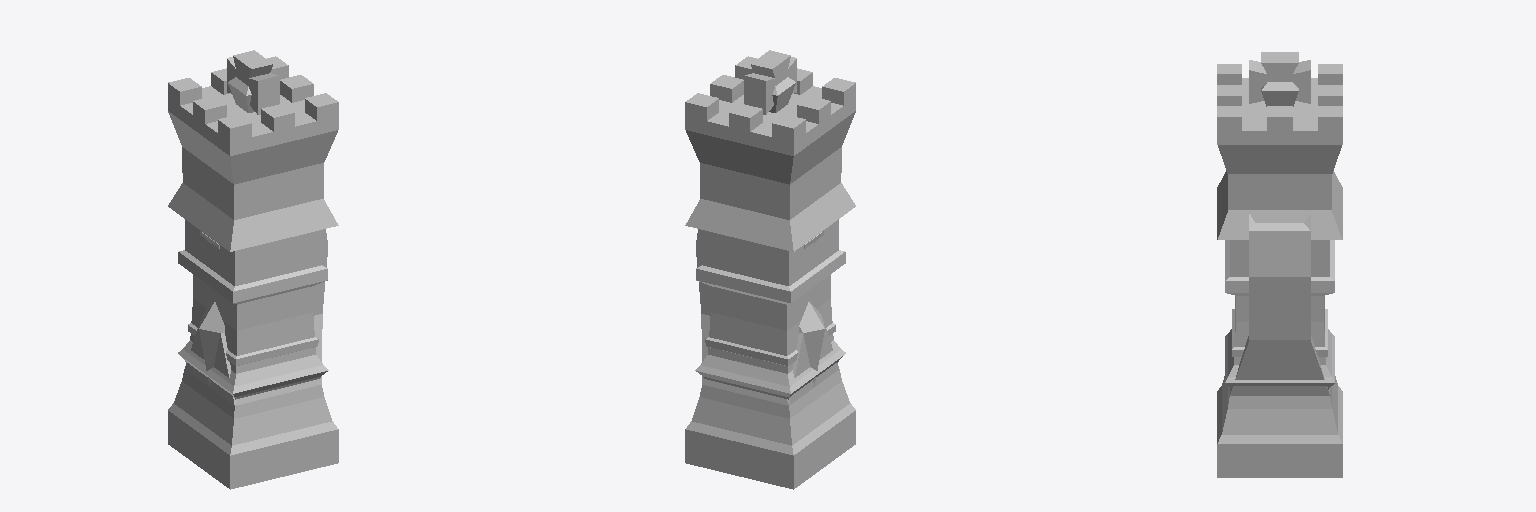
File: chess.obj
3 renders of one model, left to right at view 1: azimuth 30°, elevation 25°; view 2: azimuth 150°, elevation 25°; view 3: azimuth 270°, elevation 25°, orthographic.
Visible parts, largest first — view 1: Queen, Bishy, Rook, Knight, King, Pawn; view 2: Queen, Bishy, Rook, Knight, King, Pawn; view 3: Queen, Knight, Bishy, Rook, King.
Part boxes in pixels (x1,y1,x2,y2): Queen: (168, 56, 338, 396); Bishy: (168, 250, 337, 489); Rook: (168, 219, 338, 488); Knight: (182, 229, 327, 418); King: (189, 50, 311, 131); Pawn: (188, 323, 318, 365); Queen: (685, 56, 855, 396); Bishy: (686, 250, 855, 487); Rook: (685, 219, 855, 489); Knight: (696, 229, 841, 418); King: (712, 50, 834, 131); Pawn: (705, 323, 835, 365); Queen: (1217, 64, 1342, 387); Knight: (1228, 214, 1331, 408); Bishy: (1217, 240, 1342, 477); Rook: (1217, 240, 1342, 477); King: (1242, 52, 1317, 126).
Bounding box in the file's own units: 2.1 × 6.93 × 2.